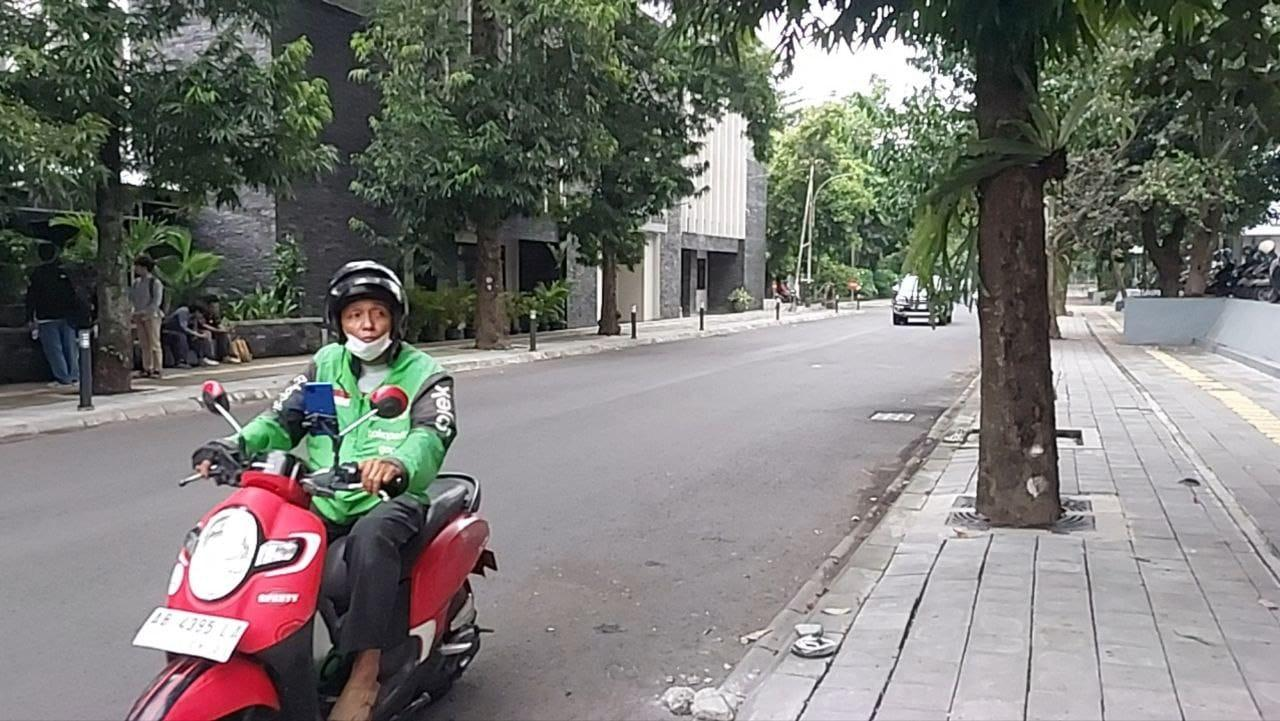nohelm: (322, 260, 412, 363)
riding: (123, 257, 502, 721)
